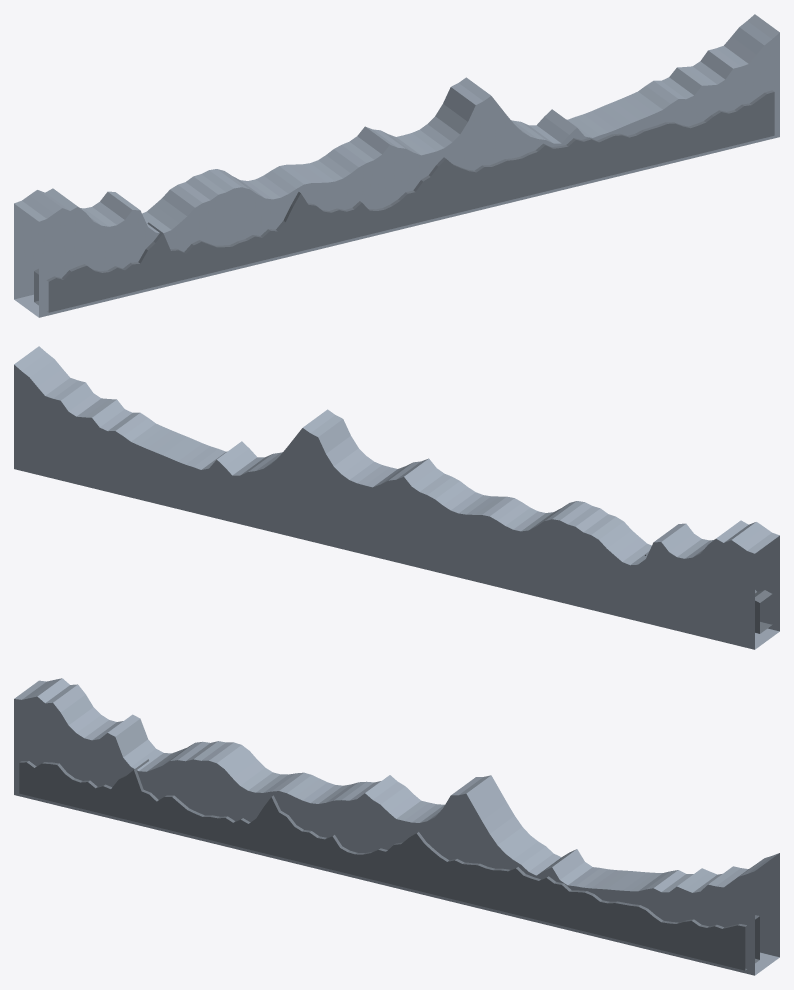
File: backdrop_mountains_near.glb
The picture shows the model from 3 angles, top to bottom: view 1: azimuth 30°, elevation 25°; view 2: azimuth 150°, elevation 25°; view 3: azimuth 330°, elevation 25°; orthographic projection.
Parts seen in each view (by area): view 1: MountainsNear, trim_MountainsNear; view 2: MountainsNear; view 3: MountainsNear, trim_MountainsNear.
Part boxes in pixels (x1,y1,x2,y2): MountainsNear: (14, 14, 779, 317); trim_MountainsNear: (34, 90, 774, 312); MountainsNear: (14, 346, 779, 649); MountainsNear: (14, 678, 779, 975); trim_MountainsNear: (19, 759, 759, 970).
Size of the model in its own units: 58 by 8.36 by 3.7.
